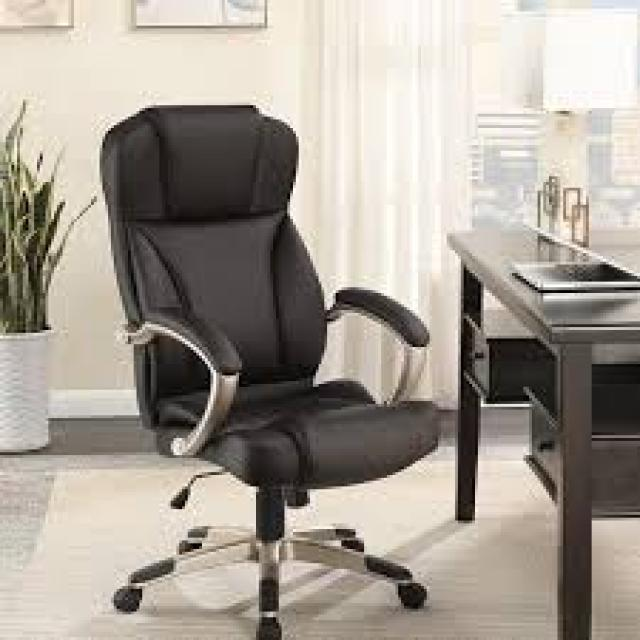chair: (27, 65, 470, 640)
